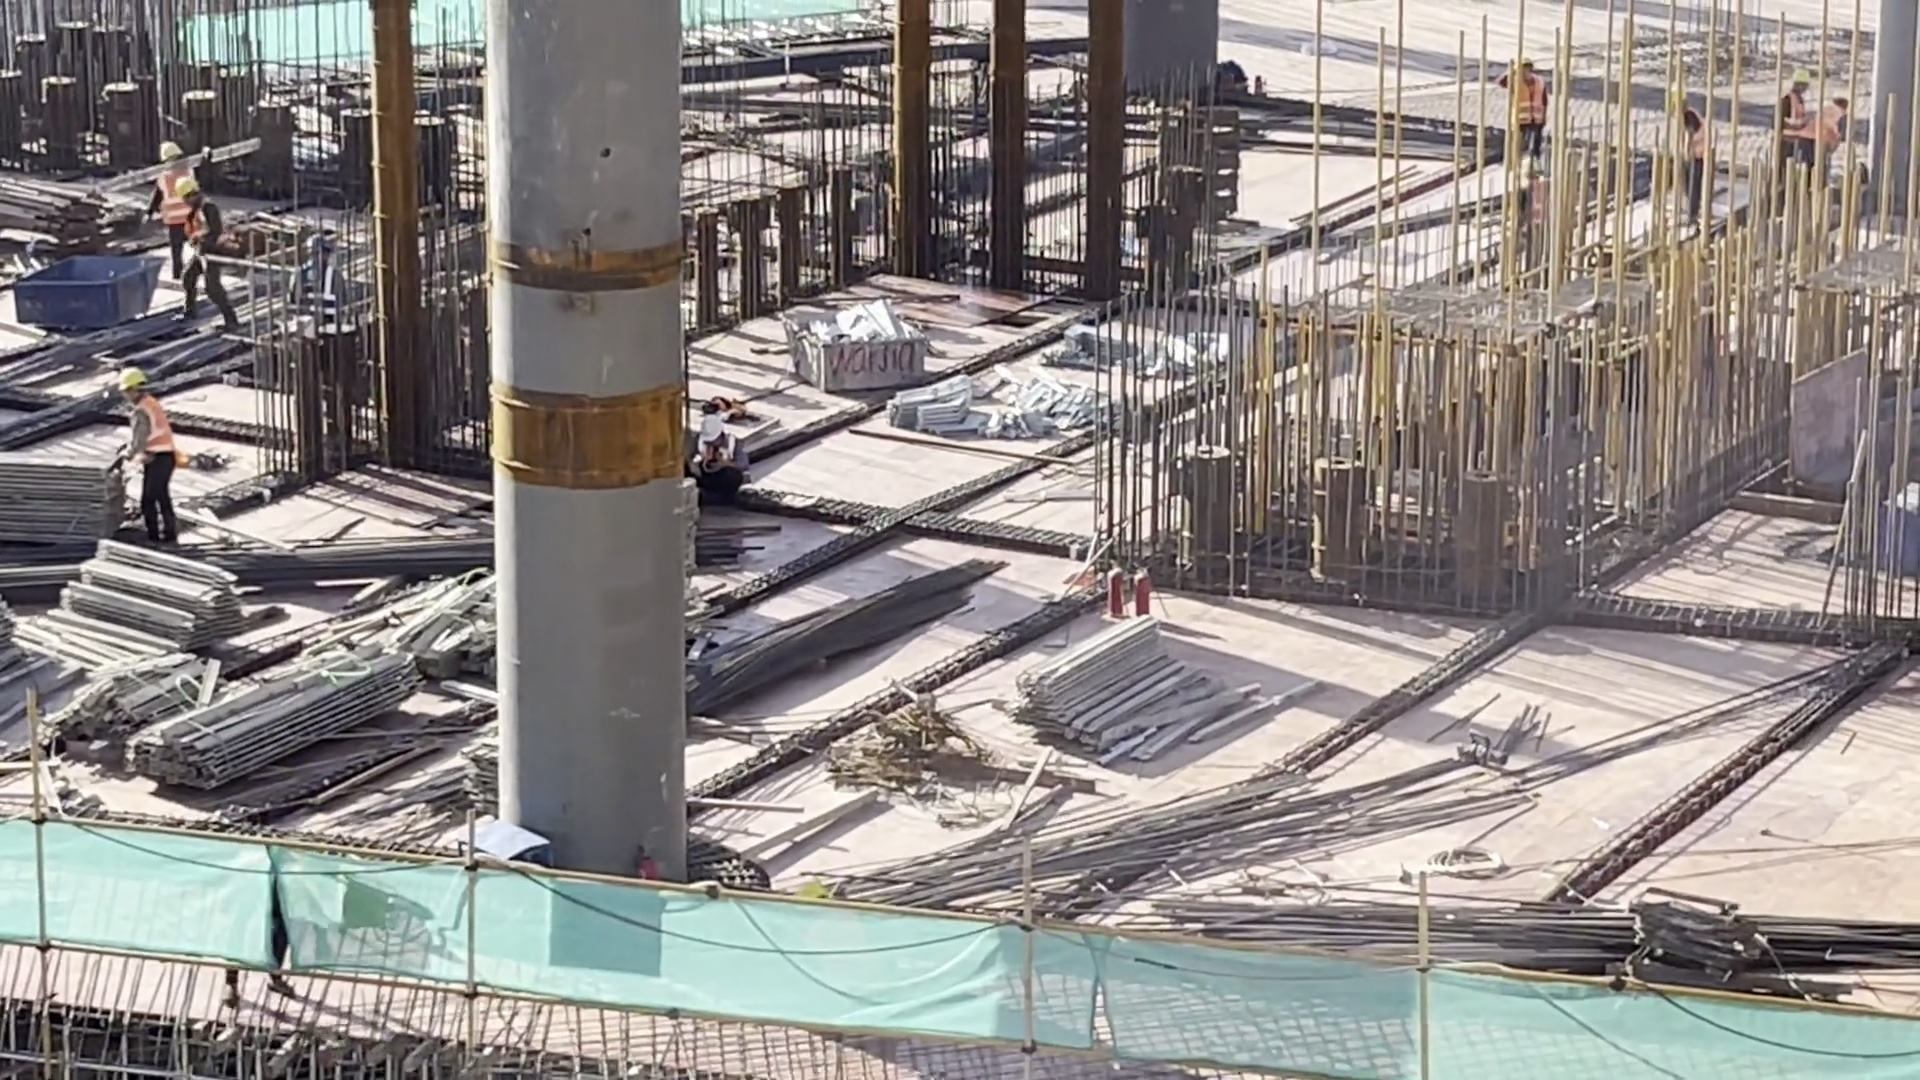helmet: (107, 349, 148, 394), (154, 134, 184, 163), (699, 411, 723, 435)
person: (99, 368, 182, 542), (1648, 72, 1719, 211), (670, 397, 748, 508), (1491, 52, 1559, 178), (174, 186, 229, 319), (144, 145, 203, 264), (1803, 83, 1862, 186), (1782, 63, 1811, 165)
vest: (122, 391, 182, 478), (147, 165, 199, 226), (1511, 80, 1548, 126)
